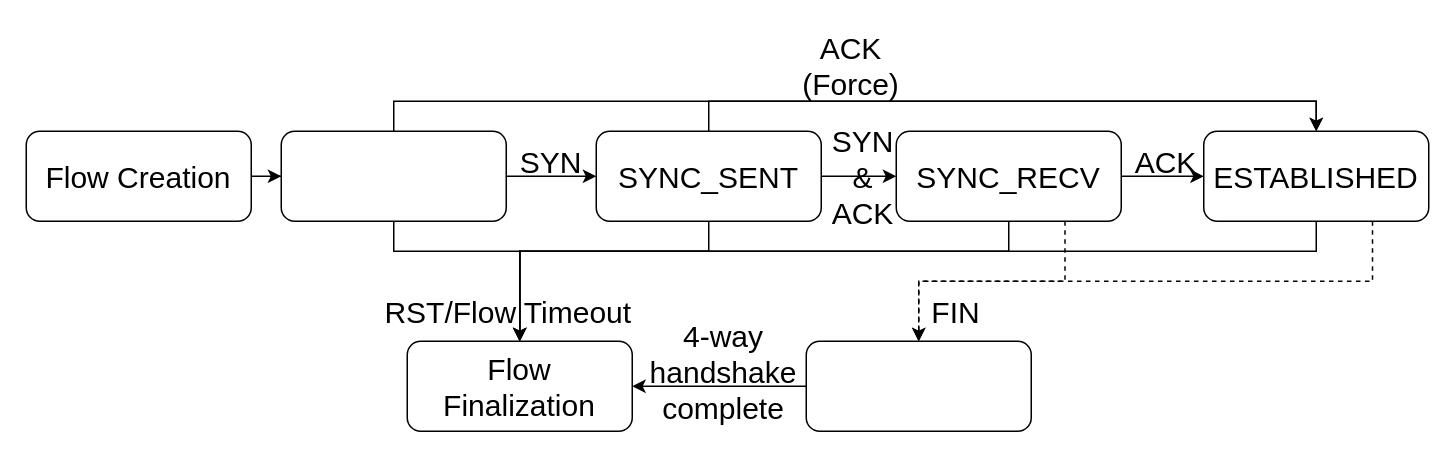
Image size: 1455x458. Some labels were removed from this diagram. The shapes that lost their labels are listed below. From the top down, each one's centre as x and y in pixels, then its label:
the point at 393,175: NEW
the point at 918,385: FIN_WAIT
